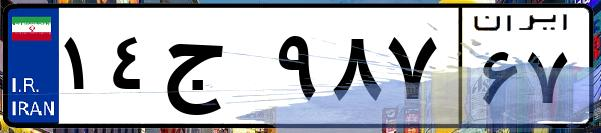1: (57, 26, 110, 100)
4: (110, 28, 158, 98)
6: (475, 38, 525, 113)
7: (385, 28, 445, 110), (525, 38, 570, 115)
8: (330, 28, 385, 110)
9: (270, 28, 330, 110)
ج: (158, 20, 270, 120)
